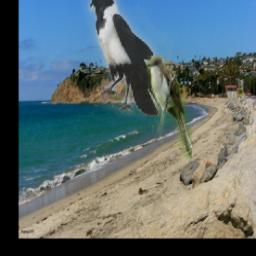Crow: (78, 0, 173, 116)
Cuckoo: (147, 56, 193, 158)
